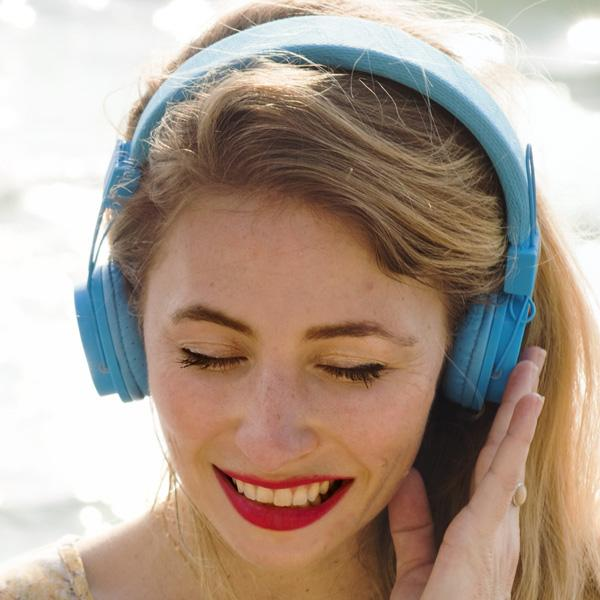Eyes: (168, 328, 254, 384), (306, 342, 392, 392)
